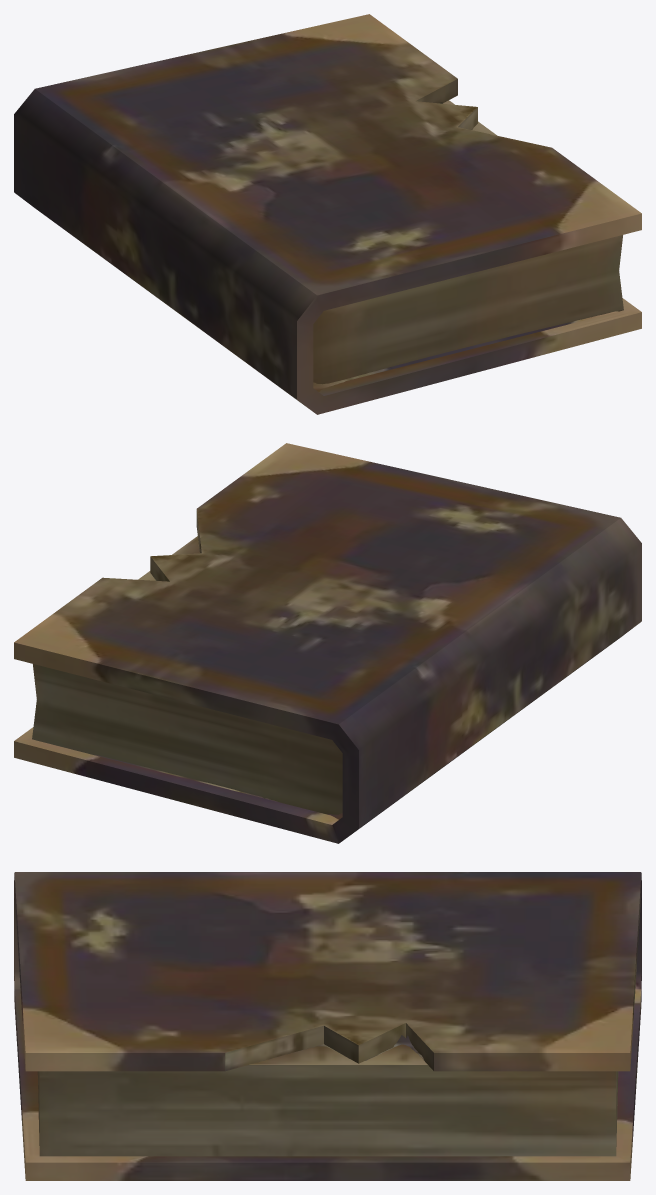
The picture shows the model from 3 angles, top to bottom: view 1: azimuth 30°, elevation 25°; view 2: azimuth 150°, elevation 25°; view 3: azimuth 270°, elevation 25°; orthographic projection. The views are drawn at different scales.
Visible parts, largest first — view 1: SM_DR_Book_02_LOD0; view 2: SM_DR_Book_02_LOD0; view 3: SM_DR_Book_02_LOD0.
Part boxes in pixels (<box>): SM_DR_Book_02_LOD0: <box>14,14,641,414</box>; SM_DR_Book_02_LOD0: <box>14,443,641,843</box>; SM_DR_Book_02_LOD0: <box>14,872,641,1180</box>.
Bounding box in the file's own units: 0.2709 × 0.0883 × 0.3789.
Materials: 1 (1 with a texture image).
